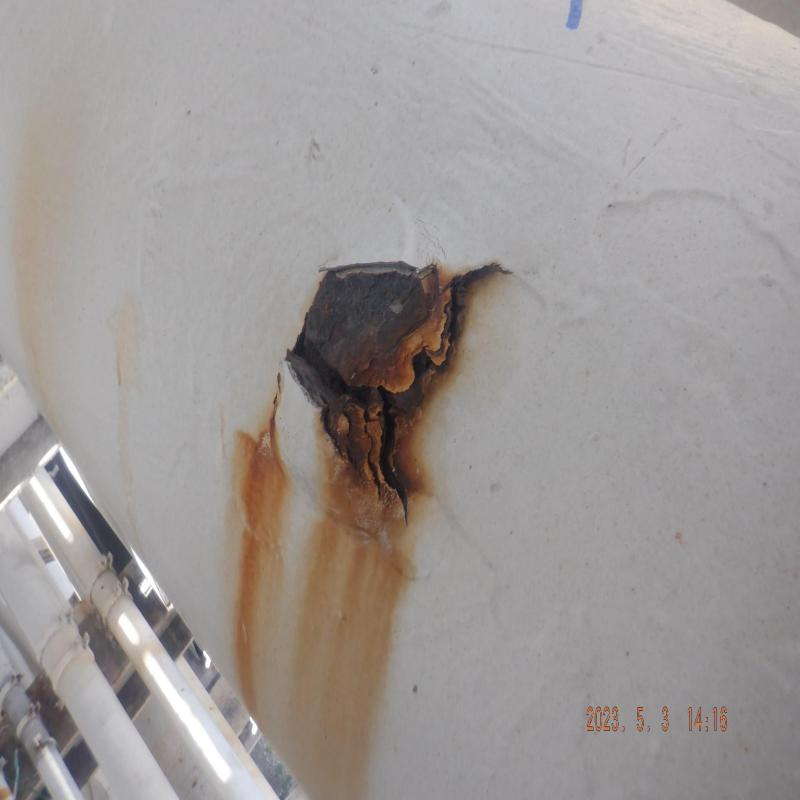Fracture: (309, 276, 434, 503)
